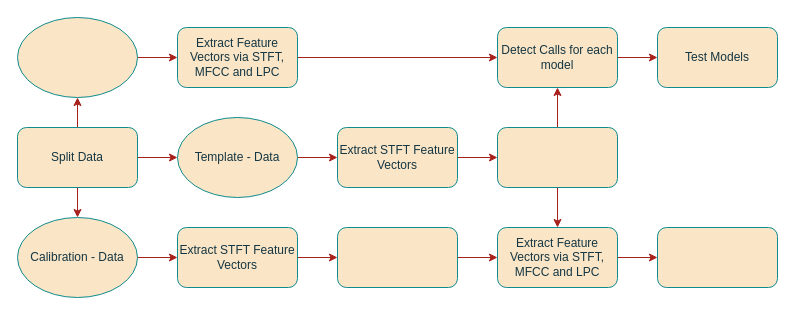
This 795x315 diagram has some shape labels left out. Each missing label, with the centre of its shape:
Find Thresholds for each model: (x=717, y=257)
Select Calibration Templates: (x=397, y=257)
Select Templates: (x=557, y=157)
Test - Data: (x=77, y=57)
